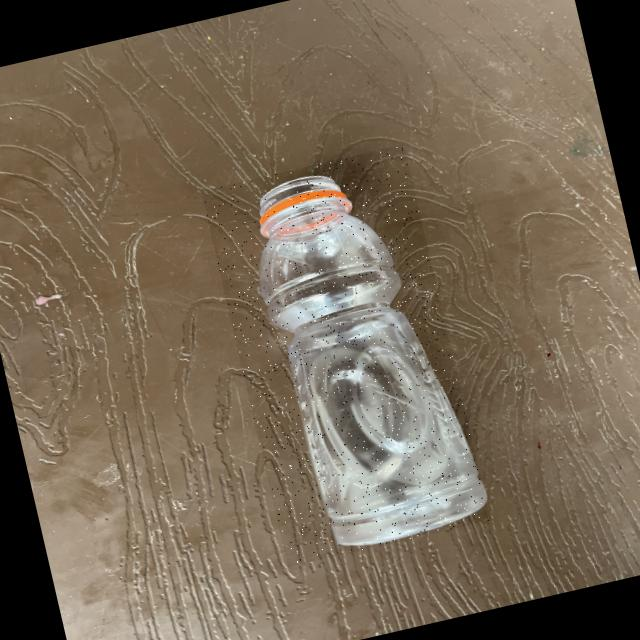PET_With_Cap: (200, 143, 490, 566)
